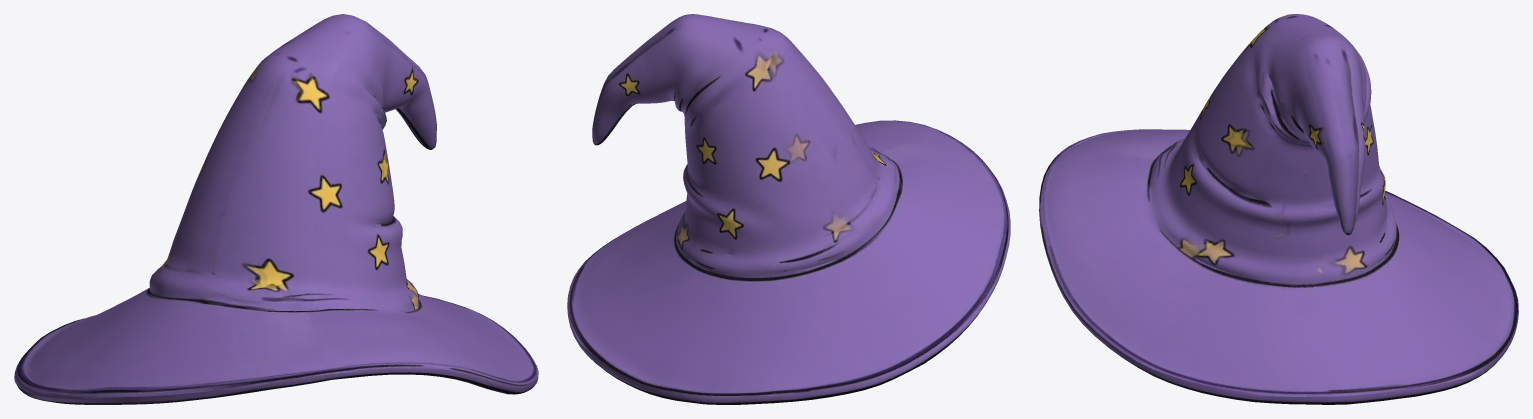
File: hat_wizard.glb
The picture shows the model from 3 angles, left to right: view 1: azimuth 30°, elevation 25°; view 2: azimuth 150°, elevation 25°; view 3: azimuth 270°, elevation 25°; orthographic projection. The views are drawn at different scales.
Bounding box in the file's own units: 1.9 × 1.45 × 1.89.
Materials: 1 (1 with a texture image).
